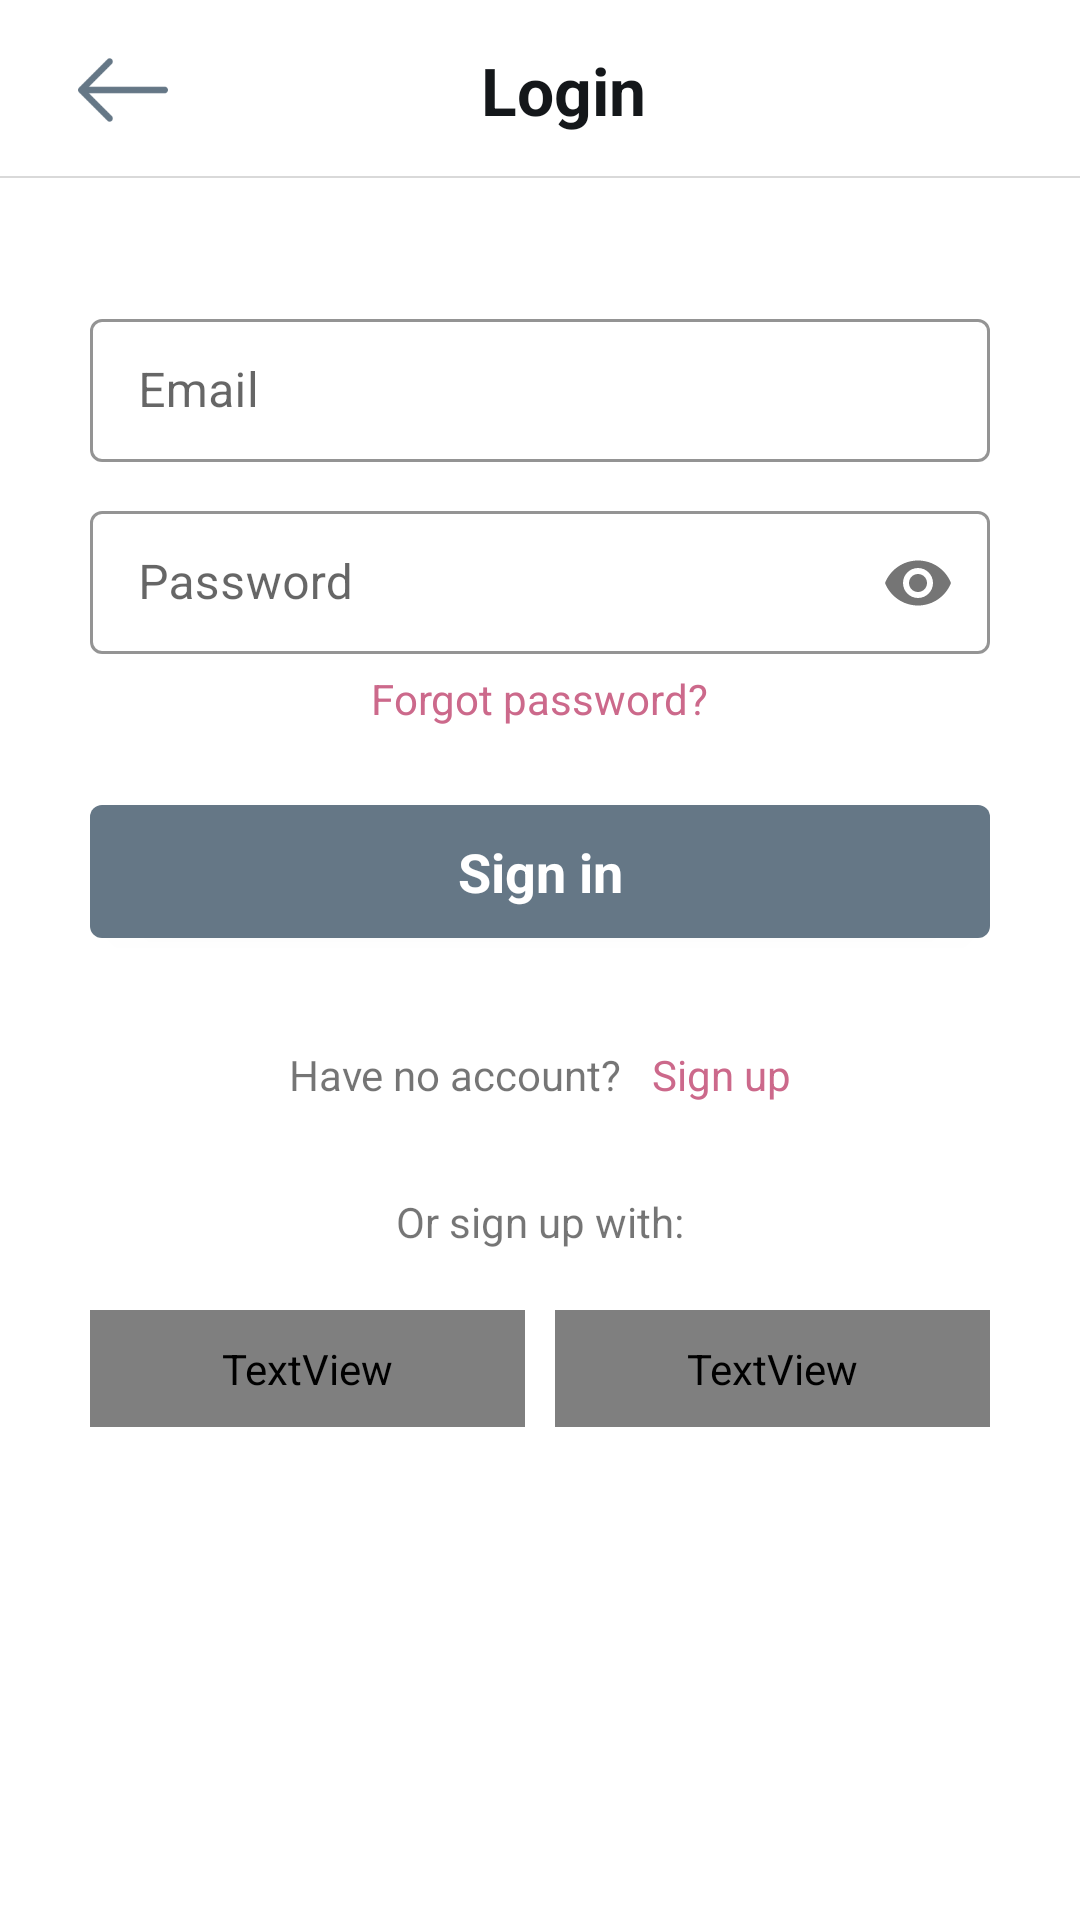

Icons on this 1080×1920 Android screen, each with its box as box(x1, y1, x2, y2):
back: box(78, 58, 168, 122)
